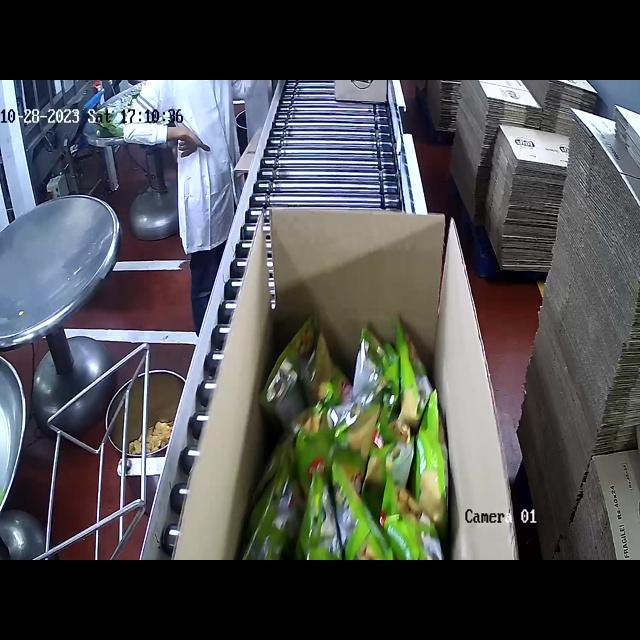yogurt: (240, 313, 448, 558)
